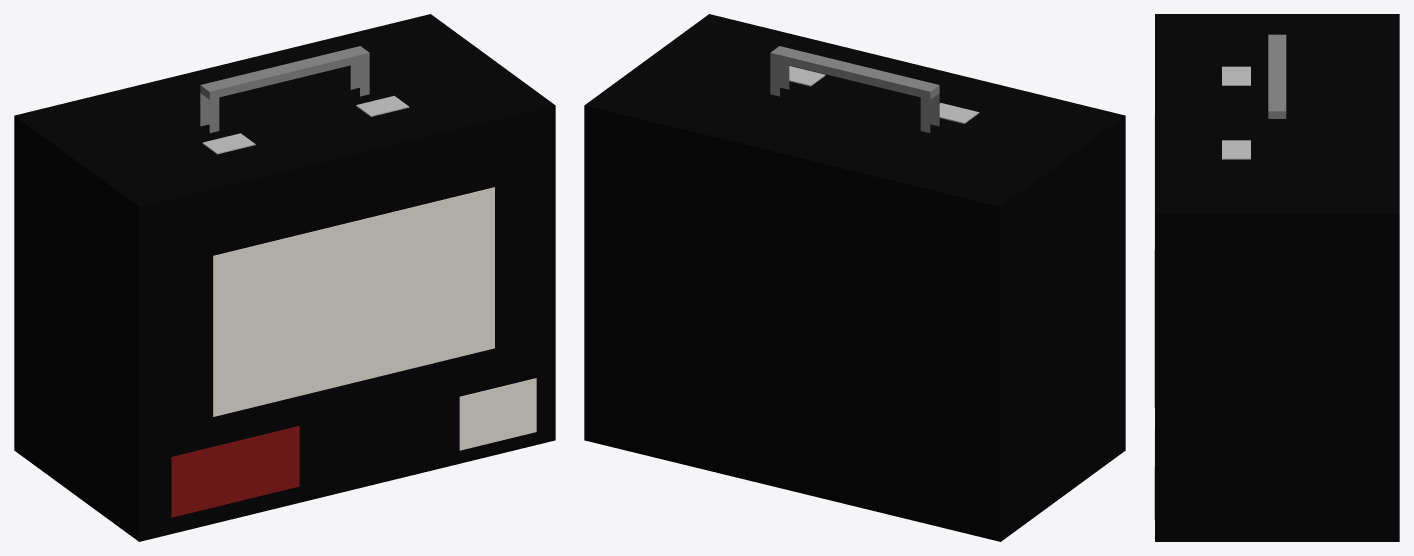
The model's file is Office Survival Kit.glb.
The picture shows the model from 3 angles, left to right: view 1: azimuth 30°, elevation 25°; view 2: azimuth 150°, elevation 25°; view 3: azimuth 270°, elevation 25°; orthographic projection.
Visible parts, largest first — view 1: OuterCase, Lid, MainLabel, RubberStamp, BarcodeLabel, Handle, FauxClasp_1, FauxClasp_2; view 2: OuterCase, Handle; view 3: OuterCase, Lid, Handle, FauxClasp_1, FauxClasp_2.
Boxes of the visible parts, x1,y1,x2,y2 form: OuterCase: (14, 14, 555, 541); Lid: (136, 105, 555, 539); MainLabel: (213, 187, 494, 416); RubberStamp: (171, 426, 299, 517); BarcodeLabel: (459, 378, 536, 450); Handle: (200, 46, 369, 132); FauxClasp_1: (202, 133, 255, 154); FauxClasp_2: (356, 95, 409, 116); OuterCase: (584, 14, 1125, 541); Handle: (770, 46, 939, 132); OuterCase: (1155, 14, 1399, 541); Lid: (1155, 15, 1160, 541); Handle: (1268, 34, 1286, 118); FauxClasp_1: (1222, 66, 1250, 85); FauxClasp_2: (1222, 140, 1250, 159).
Bounding box in the file's own units: 6.5 × 5.62 × 3.39.
